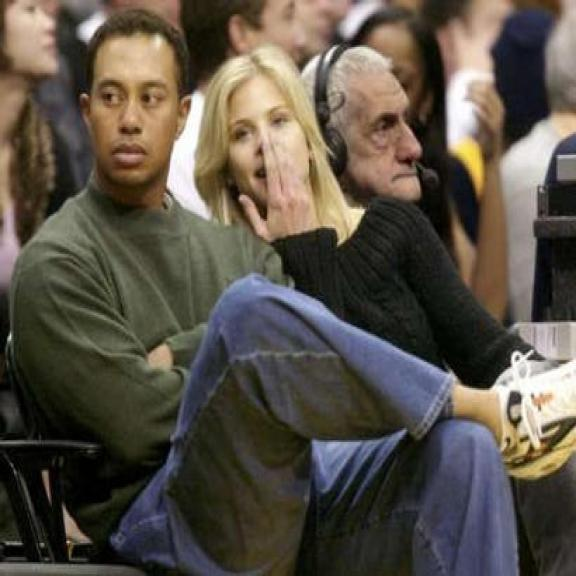face: (73, 22, 195, 196), (333, 59, 426, 207), (221, 83, 316, 212), (228, 0, 309, 63), (5, 0, 63, 84)
